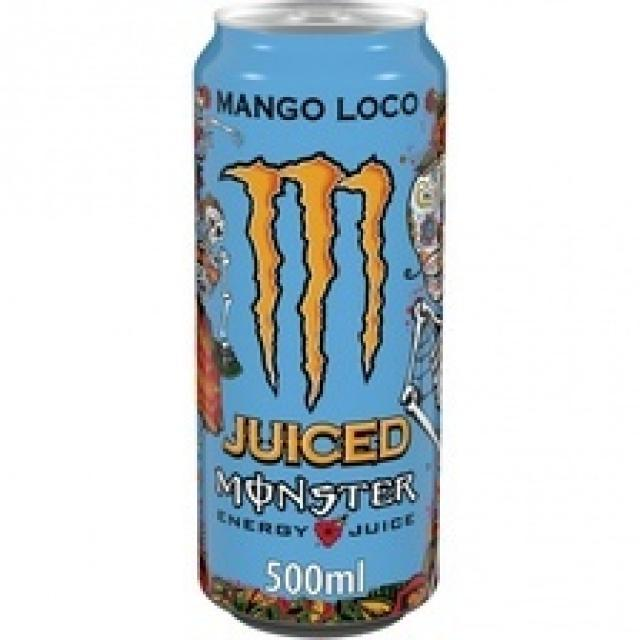recyclable: (194, 0, 446, 640)
